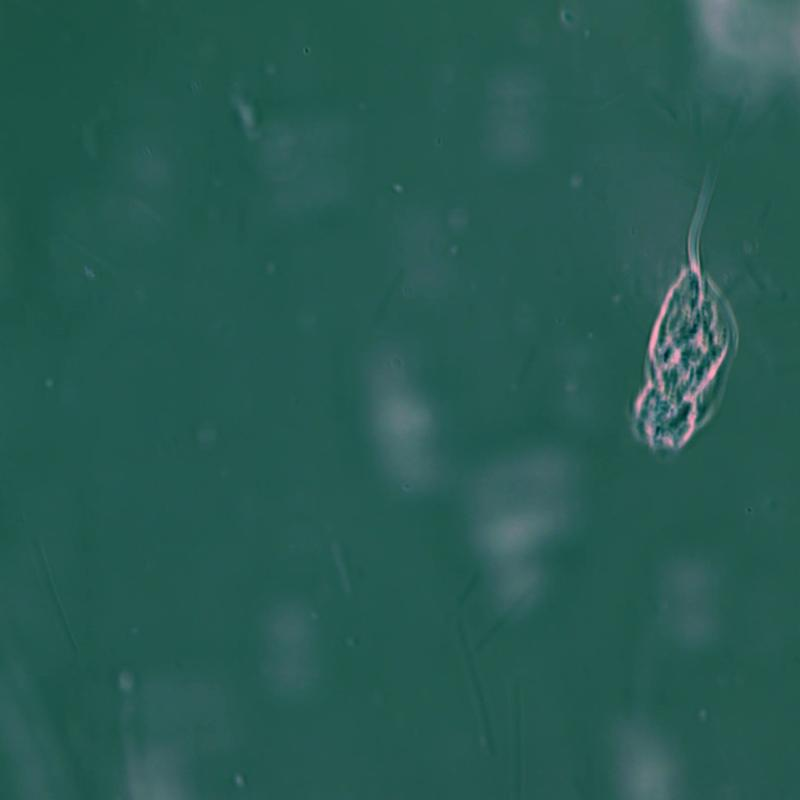depth:20: (609, 142, 768, 493)
